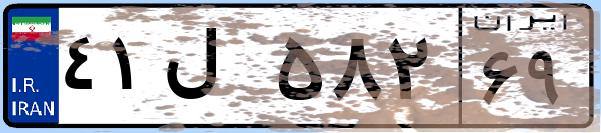1: (110, 28, 158, 98)
2: (385, 28, 445, 110)
4: (57, 26, 110, 100)
5: (270, 28, 330, 110)
6: (475, 38, 525, 113)
8: (330, 28, 385, 110)
9: (525, 38, 570, 115)
ل: (158, 20, 270, 120)
